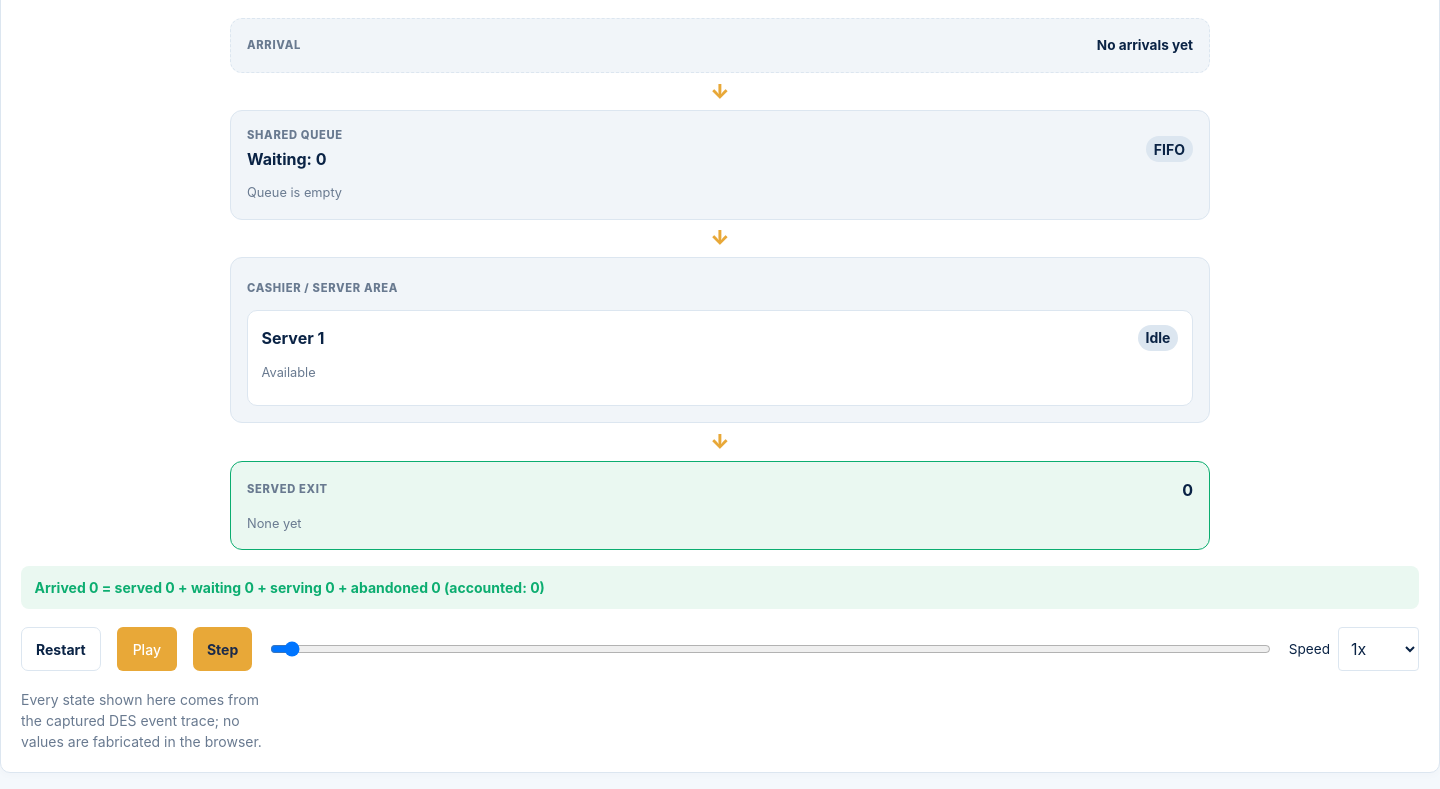
LiveSimulationPlayback › bounds heavy-queue customer tokens while preserving the real count
The image size is (1440, 789).
(page scrolled)
Click the button "Step".
click(223, 649)  # box 193,627 -> 252,671
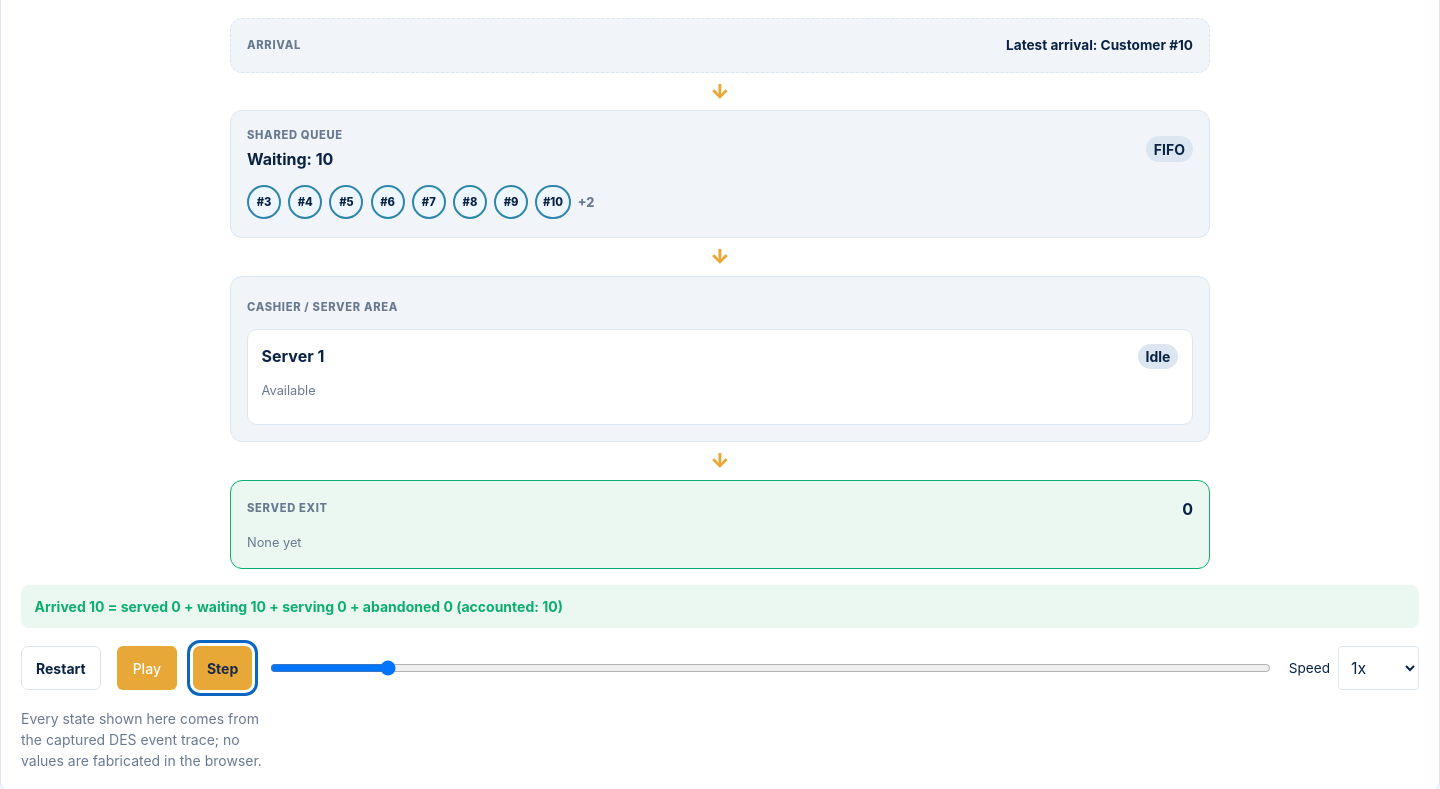
Result: the text "Waiting: 10" is shown at 247,147 -> 343,171
Result: the text "+2" is shown at 578,193 -> 594,212
Result: the text "Arrived 10 = served 0 + waiting 10 + serving 0" is shown at 35,598 -> 563,615
